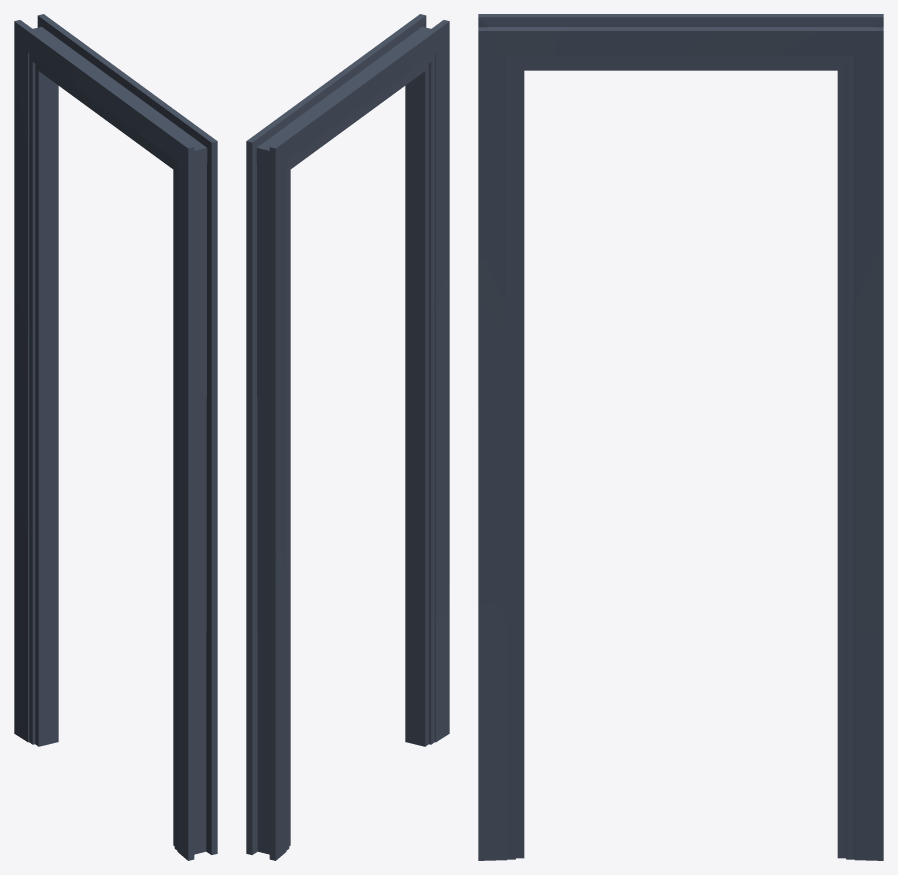
The model's file is 68_TURIN_Frame.glb.
The picture shows the model from 3 angles, left to right: view 1: azimuth 30°, elevation 25°; view 2: azimuth 150°, elevation 25°; view 3: azimuth 270°, elevation 25°; orthographic projection. The views are drawn at different scales.
Parts seen in each view (by area): view 1: 68_TURIN_Frame; view 2: 68_TURIN_Frame; view 3: 68_TURIN_Frame.
Boxes of the visible parts, <box> form: 68_TURIN_Frame: <box>14,14,217,860</box>; 68_TURIN_Frame: <box>246,14,449,860</box>; 68_TURIN_Frame: <box>478,14,883,860</box>.
Bounding box in the file's own units: 0.1023 × 2.35 × 1.04.
